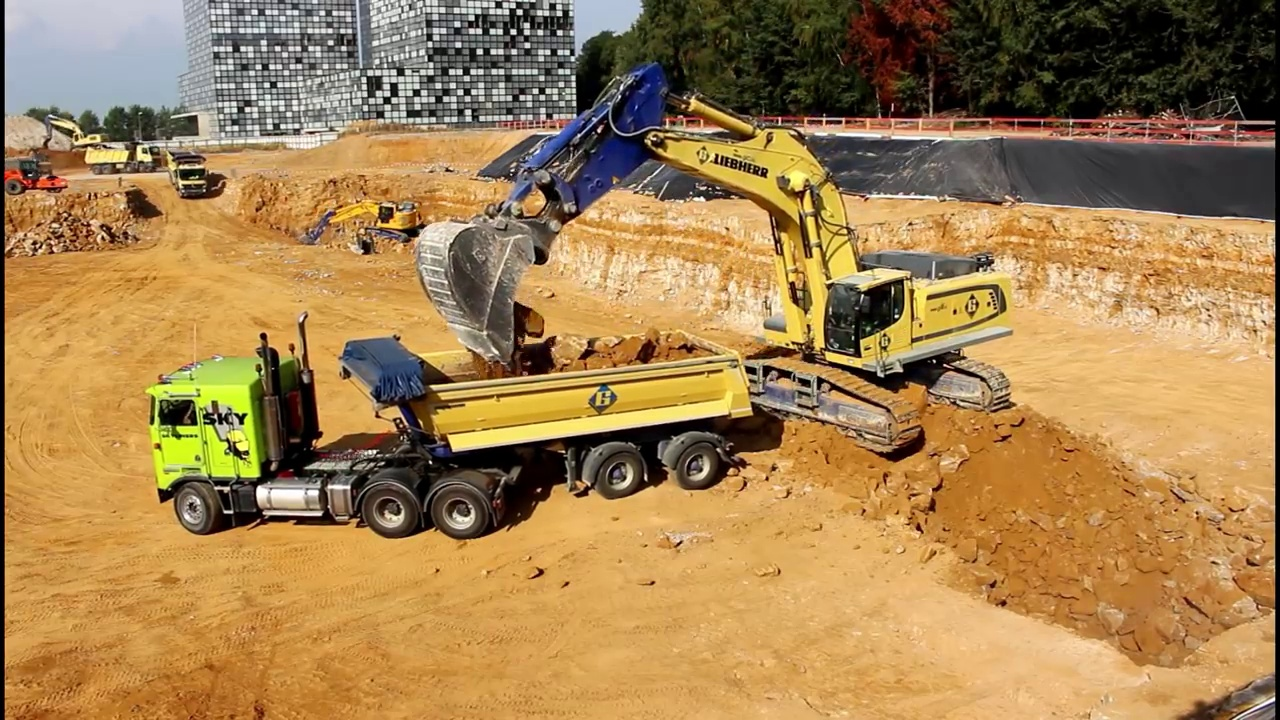compactor: (1, 158, 73, 200)
excavator: (414, 58, 1021, 461), (298, 193, 432, 259), (37, 109, 115, 158)
truck: (142, 305, 761, 543), (83, 138, 163, 176), (166, 143, 211, 200)
